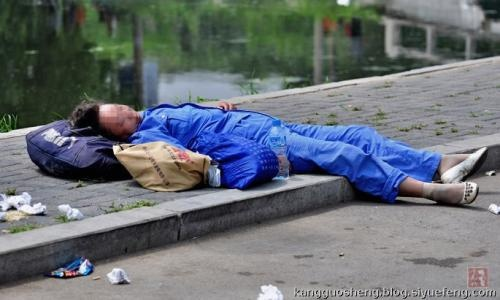falling: (53, 85, 496, 212)
